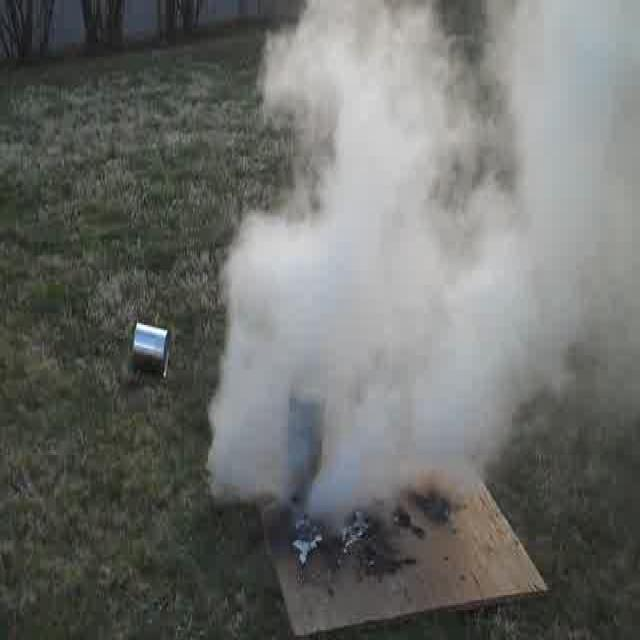Smoke: (210, 4, 640, 514)
